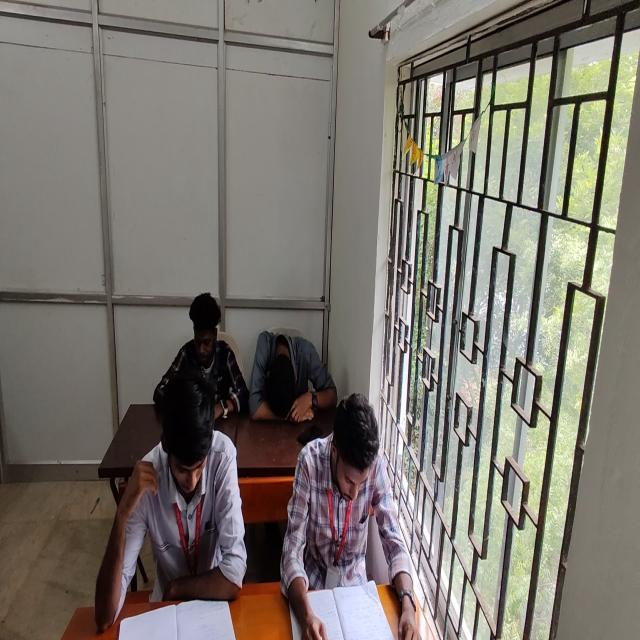reading: (96, 369, 248, 629), (290, 392, 412, 640)
sleeping: (248, 329, 335, 422)
using_mobile: (153, 289, 248, 422)
